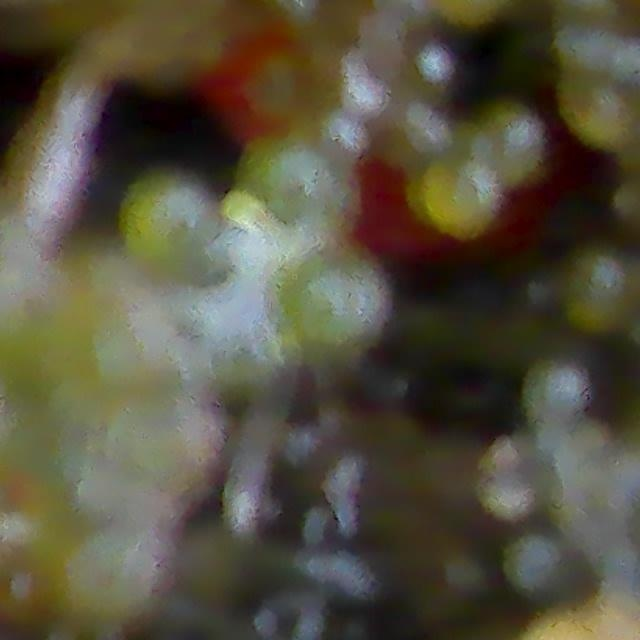SeaGrape: (283, 249, 398, 356), (236, 46, 318, 136), (415, 161, 501, 238), (522, 359, 591, 424)
